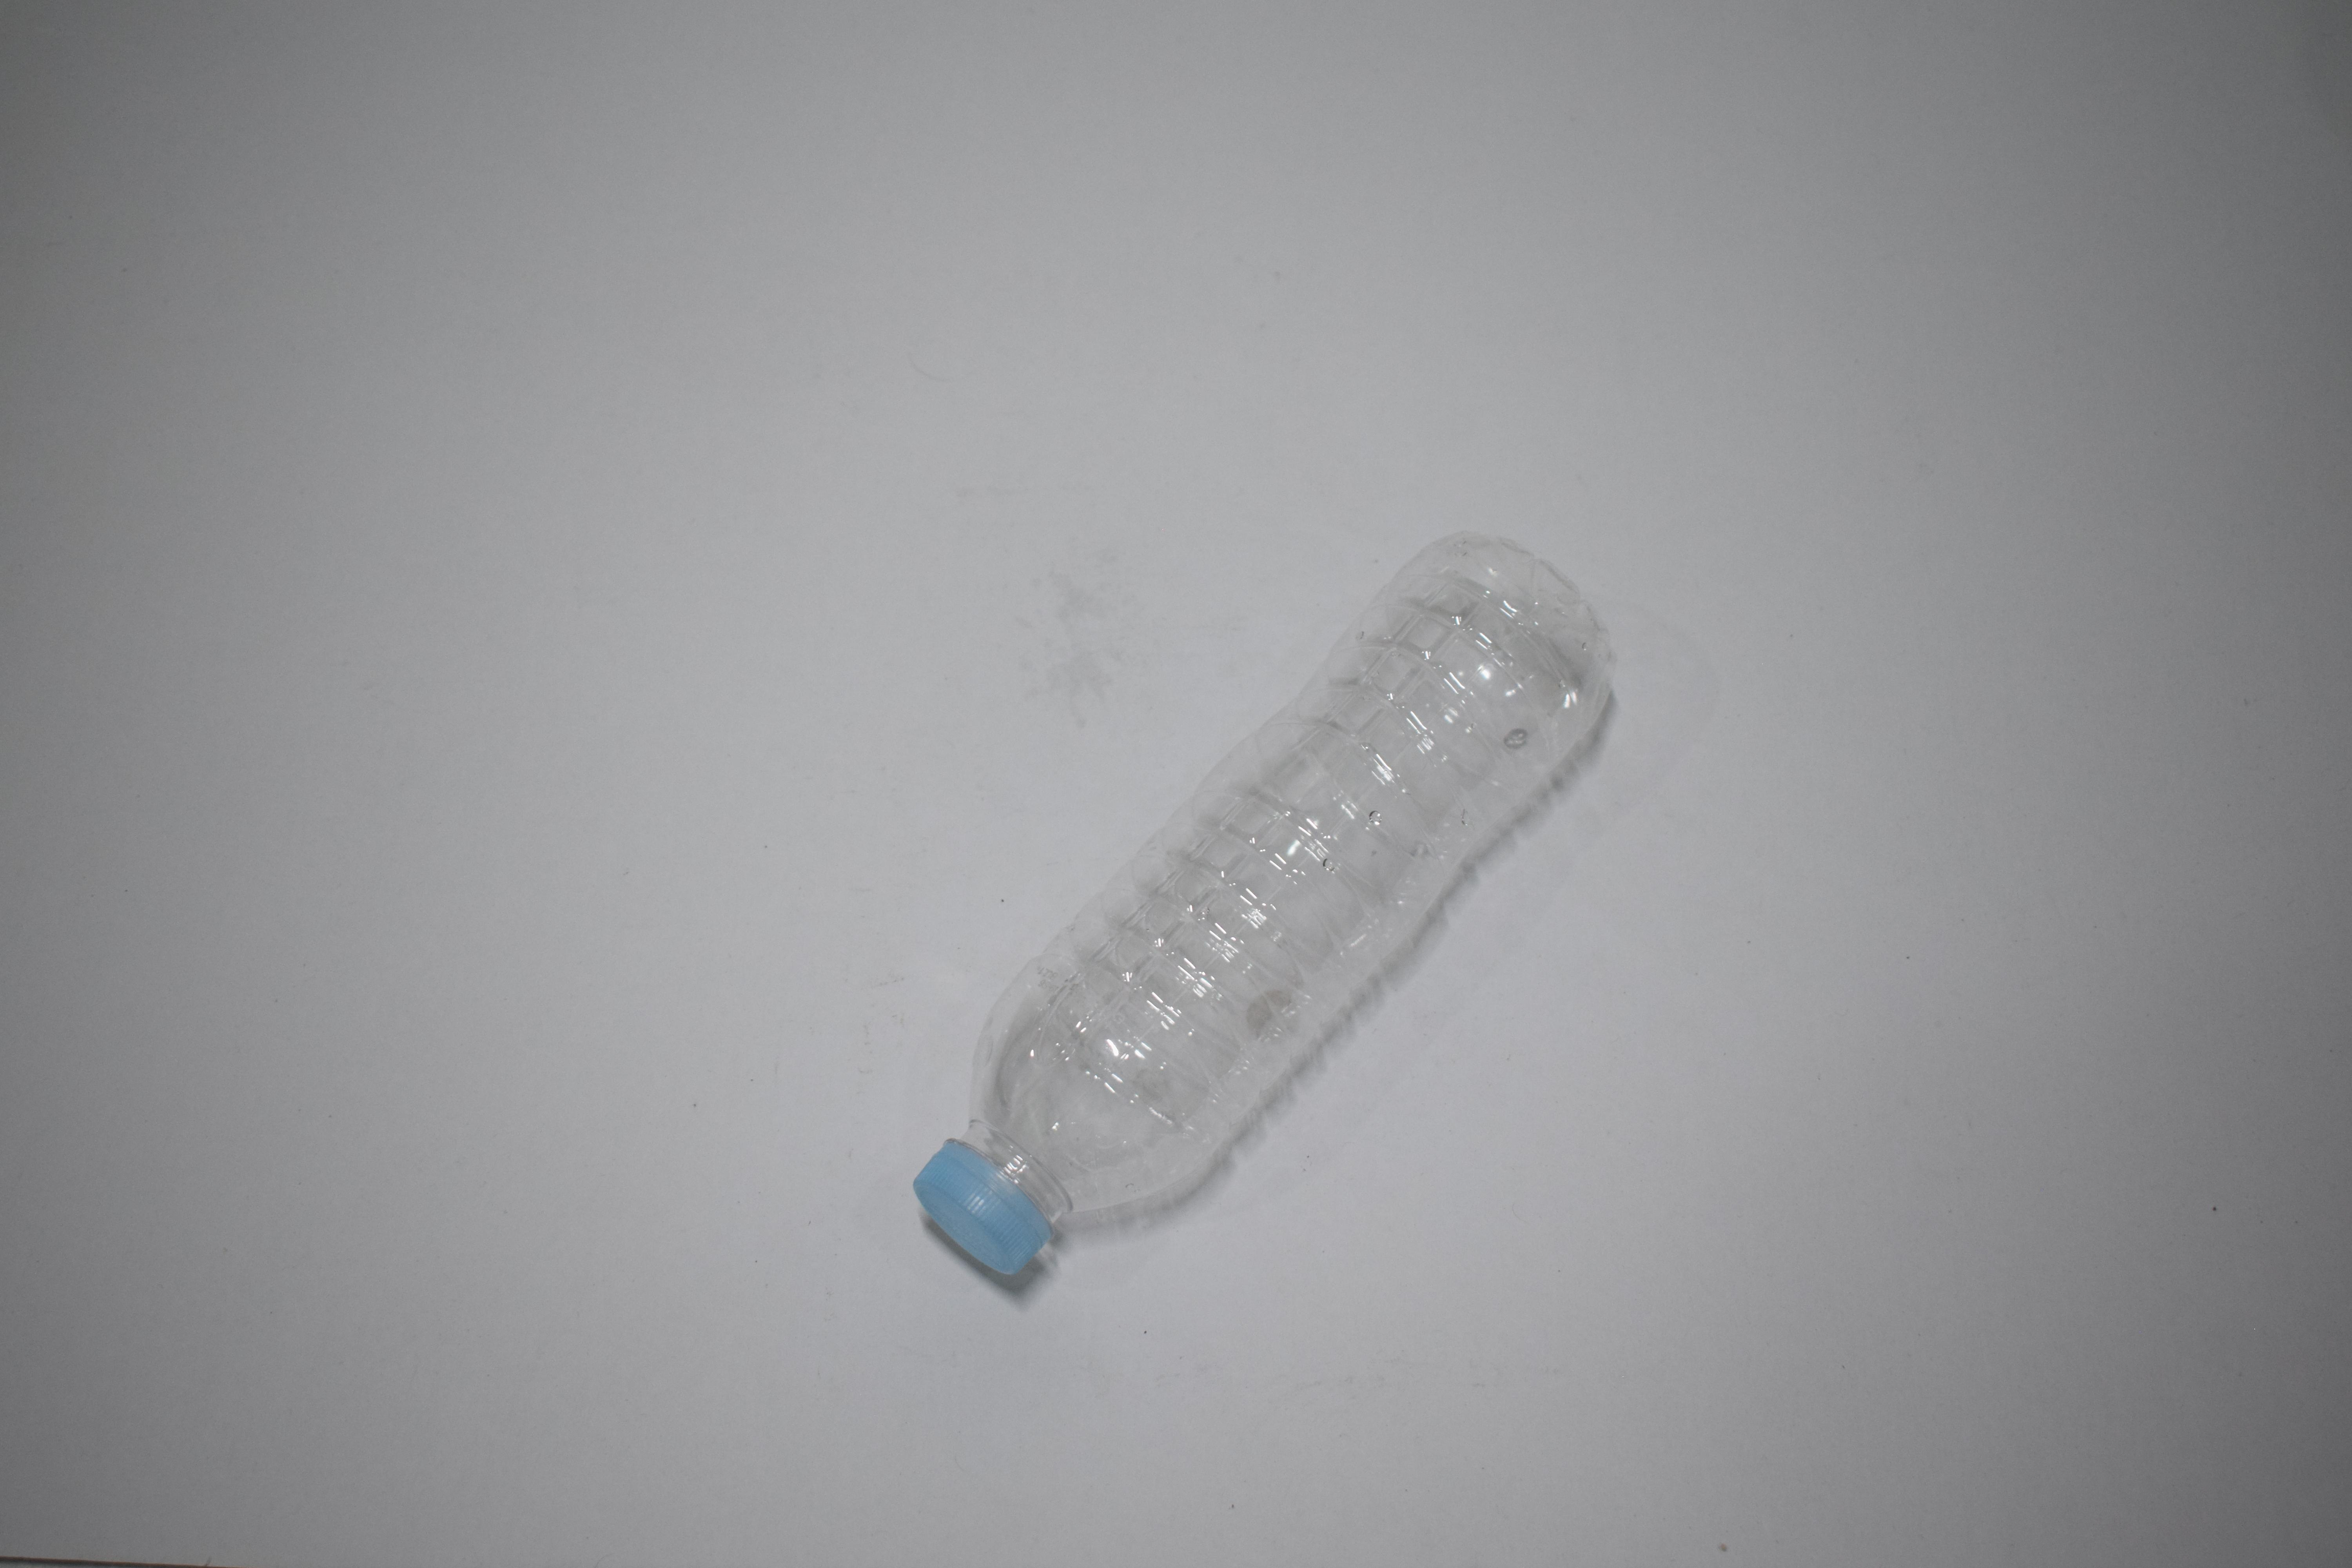bottle: (0, 0, 446, 506)
